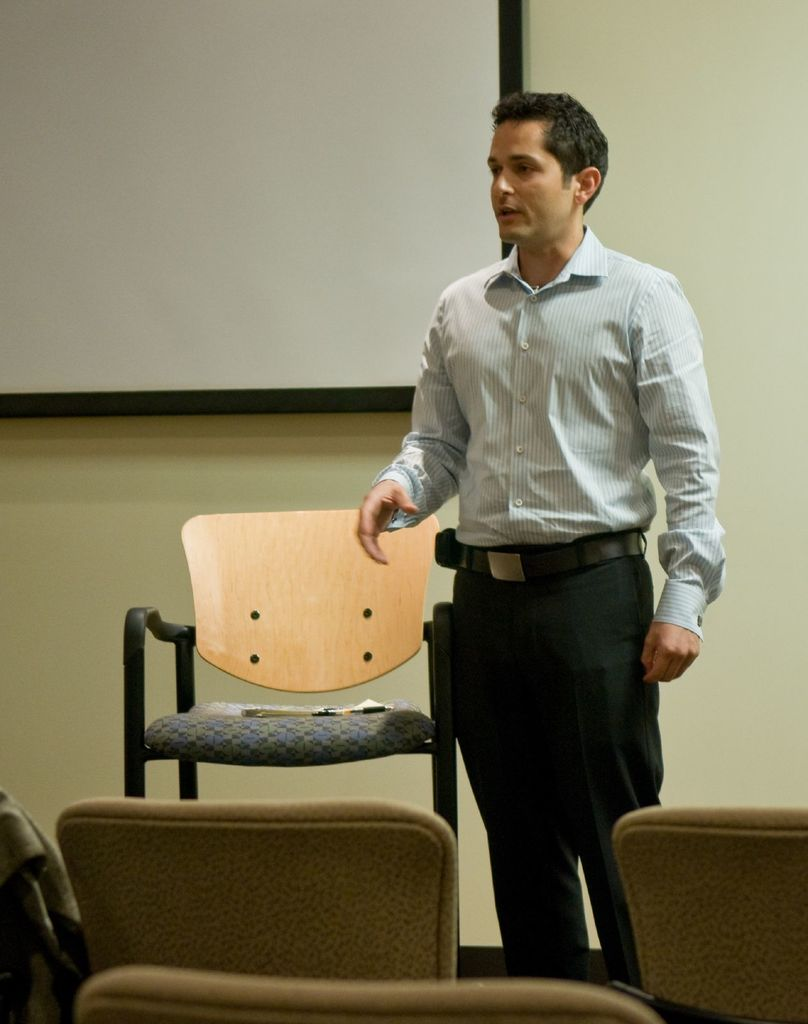Chair: (57, 796, 457, 980), (611, 803, 807, 1023), (72, 966, 660, 1023)
